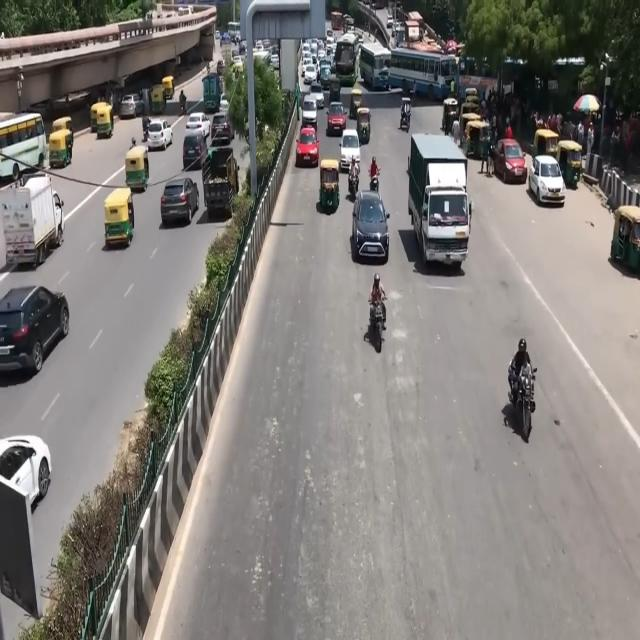auto: (614, 197, 640, 277), (102, 192, 135, 254), (558, 138, 584, 194), (319, 156, 340, 222), (125, 145, 151, 196), (49, 126, 73, 172), (534, 130, 560, 165), (468, 117, 488, 161), (51, 110, 72, 148), (356, 108, 374, 151), (463, 108, 480, 146), (96, 108, 115, 140), (150, 83, 168, 116), (90, 100, 106, 135), (161, 67, 175, 102), (352, 88, 363, 120)
bike-auto: (493, 328, 543, 446), (364, 267, 394, 373), (348, 153, 362, 201), (401, 89, 414, 140), (369, 156, 381, 198), (142, 112, 151, 143), (178, 87, 187, 118)
